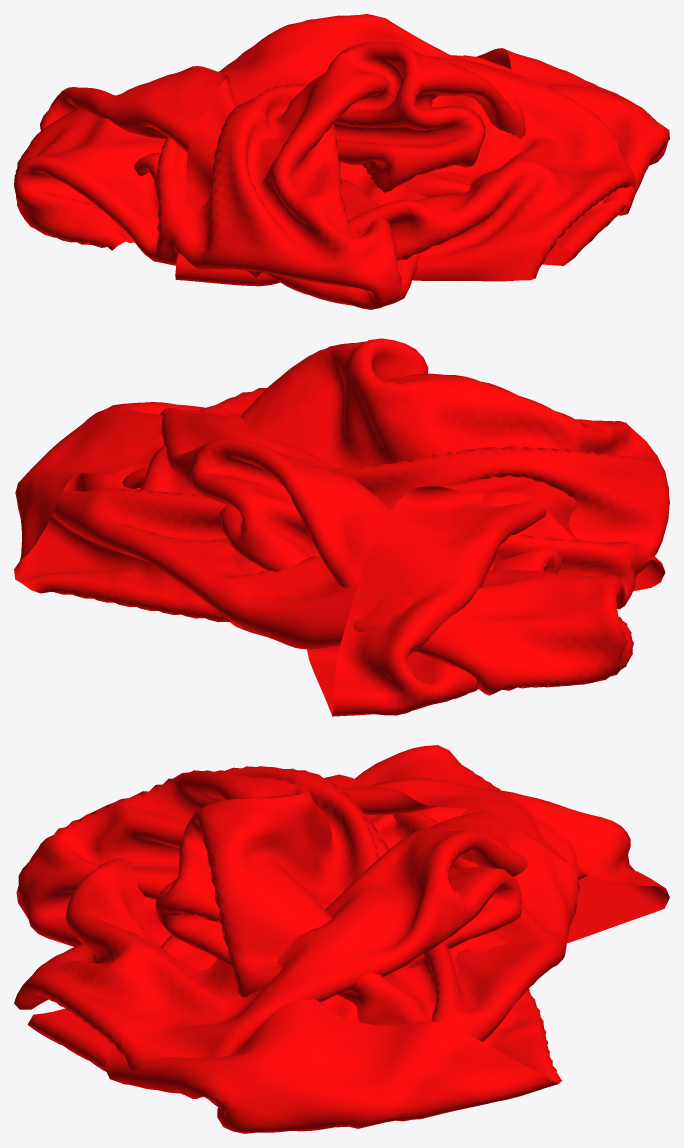
The model's file is cloth.obj.
3 renders of one model, top to bottom at view 1: azimuth 30°, elevation 25°; view 2: azimuth 150°, elevation 25°; view 3: azimuth 270°, elevation 25°, orthographic. The views are drawn at different scales.
Parts seen in each view (by area): view 1: cloth3, cloth; view 2: cloth3, cloth; view 3: cloth3, cloth.
Boxes of the visible parts, left/top/right/bottom form: cloth3: left=14, top=41, right=669, bottom=309; cloth: left=40, top=14, right=635, bottom=286; cloth3: left=14, top=338, right=669, bottom=695; cloth: left=122, top=388, right=665, bottom=716; cloth3: left=16, top=745, right=579, bottom=1133; cloth: left=14, top=774, right=669, bottom=1071.
Size of what is drawn, in the model's own units: 0.4339 by 0.1216 by 0.373.
